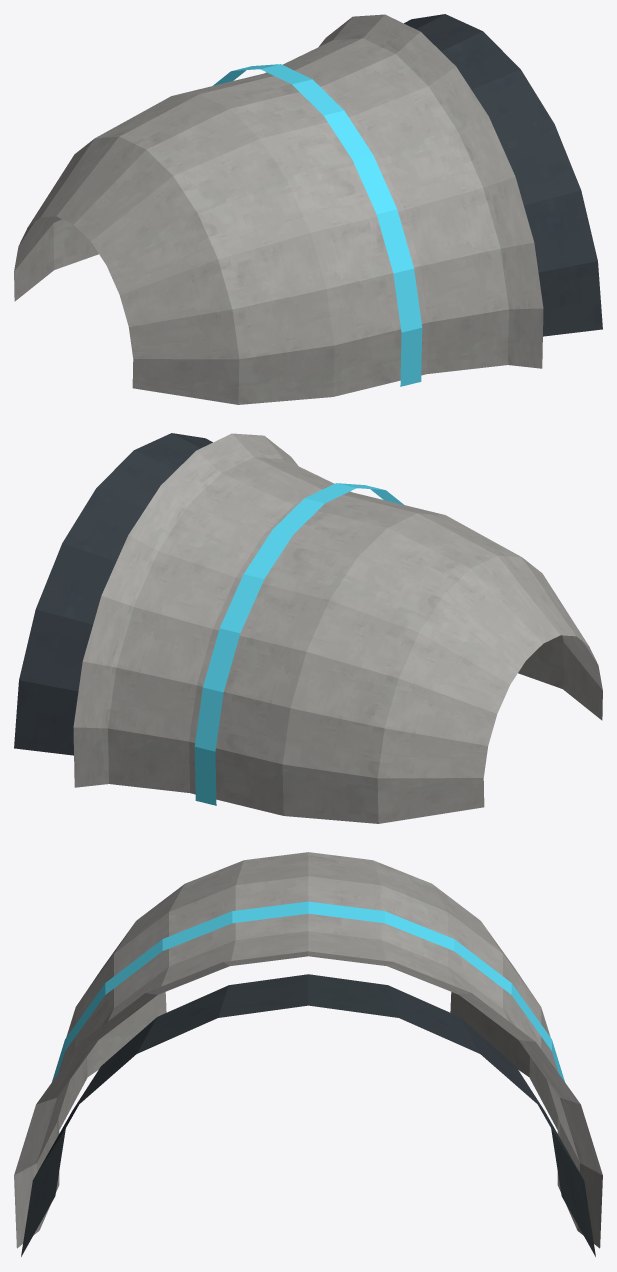
Rendered from eq_future_2_shoulder.glb.
The picture shows the model from 3 angles, top to bottom: view 1: azimuth 30°, elevation 25°; view 2: azimuth 150°, elevation 25°; view 3: azimuth 270°, elevation 25°; orthographic projection. The views are drawn at different scales.
Visible parts, largest first — view 1: eq_future_2_shoulder; view 2: eq_future_2_shoulder; view 3: eq_future_2_shoulder.
Part boxes in pixels (box(x1,y1,x2,y2)): eq_future_2_shoulder: box(14, 14, 602, 404); eq_future_2_shoulder: box(14, 433, 602, 823); eq_future_2_shoulder: box(14, 852, 602, 1256).
Bounding box in the file's own units: 0.2049 × 0.1186 × 0.2129.
Materials: 3 (2 with a texture image).
